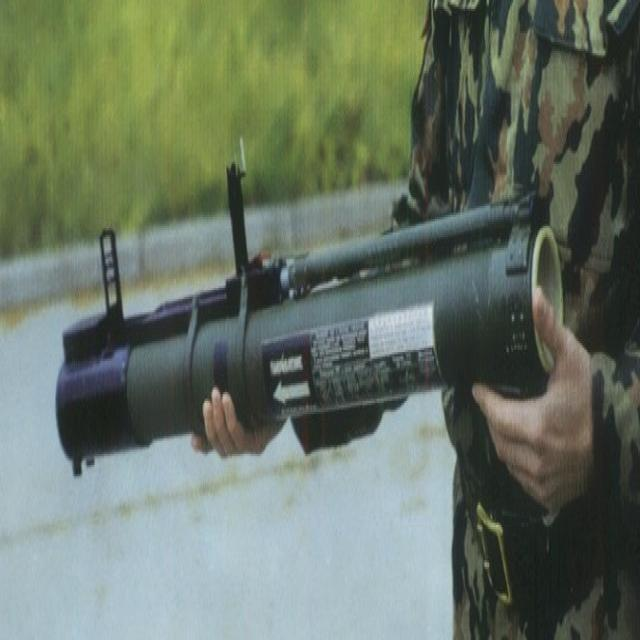bazooka: (50, 126, 582, 497)
